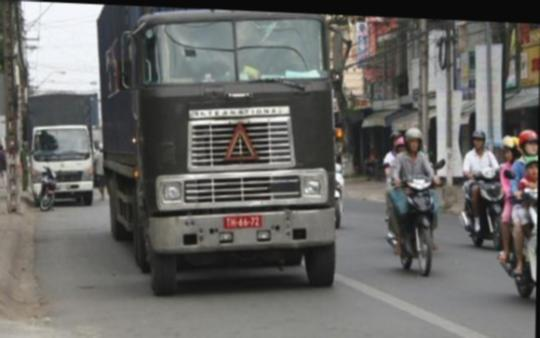License_Plate: (224, 212, 265, 235)
